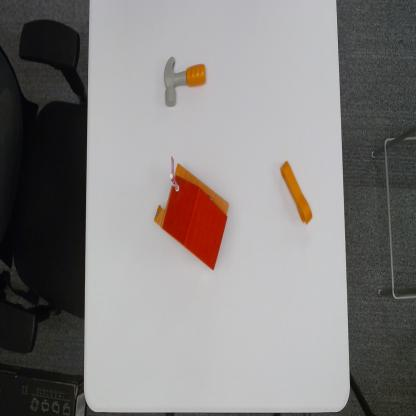Hammer: (164, 53, 208, 110)
House: (153, 154, 231, 272)
Screwdriver: (280, 160, 314, 226)
